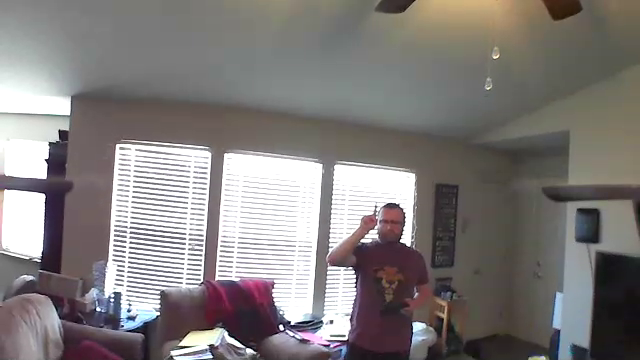up: (359, 201, 379, 234)
